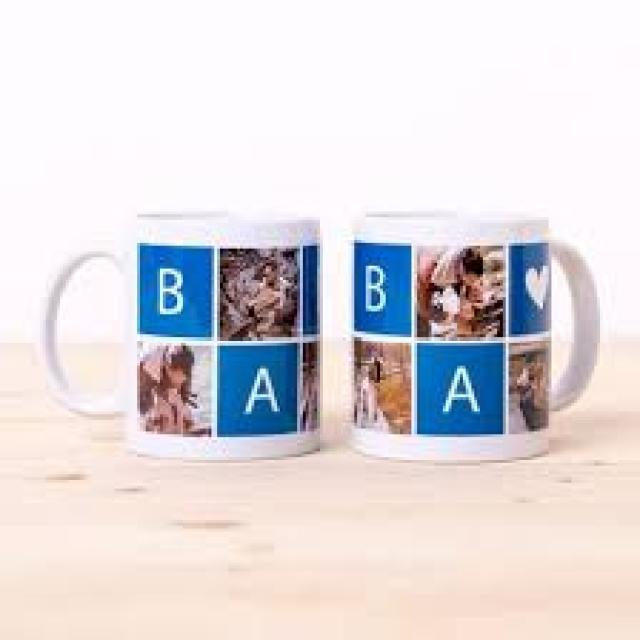taza: (34, 208, 322, 466), (350, 209, 603, 466)
